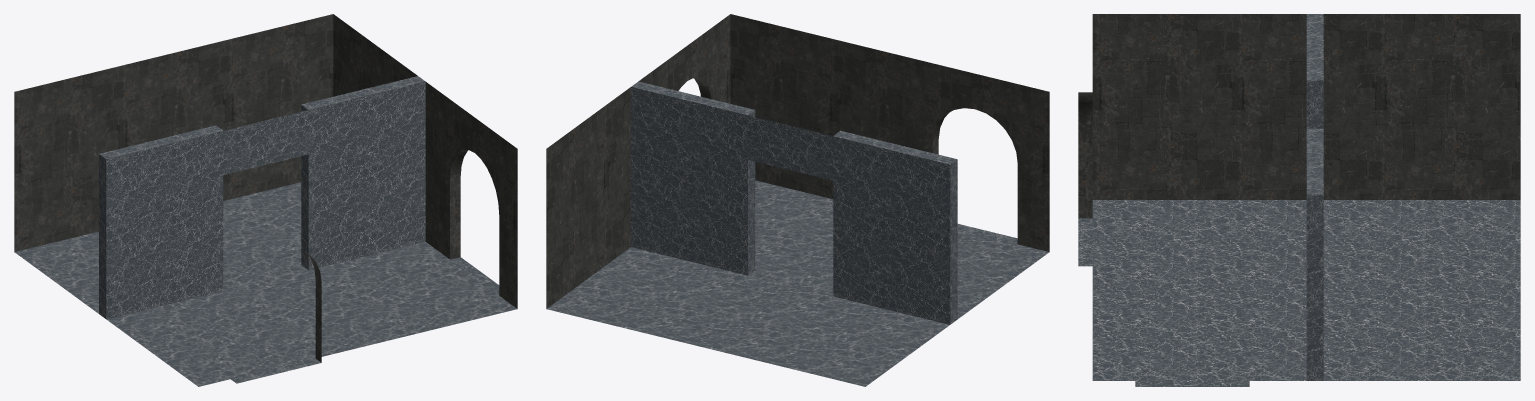
Rendered from family-mausoleum.77bedfae.gltf.
The picture shows the model from 3 angles, left to right: view 1: azimuth 30°, elevation 25°; view 2: azimuth 150°, elevation 25°; view 3: azimuth 270°, elevation 25°; orthographic projection. The views are drawn at different scales.
Visible parts, largest first — view 1: family-mausoleum-mesh; view 2: family-mausoleum-mesh; view 3: family-mausoleum-mesh.
Part boxes in pixels (box(x1,y1,x2,y2)): family-mausoleum-mesh: box(14, 14, 517, 386); family-mausoleum-mesh: box(546, 14, 1049, 386); family-mausoleum-mesh: box(1078, 14, 1520, 386).
Size of the model in its own units: 7.75 by 3.6 by 7.75.
Materials: 2 (2 with a texture image).
